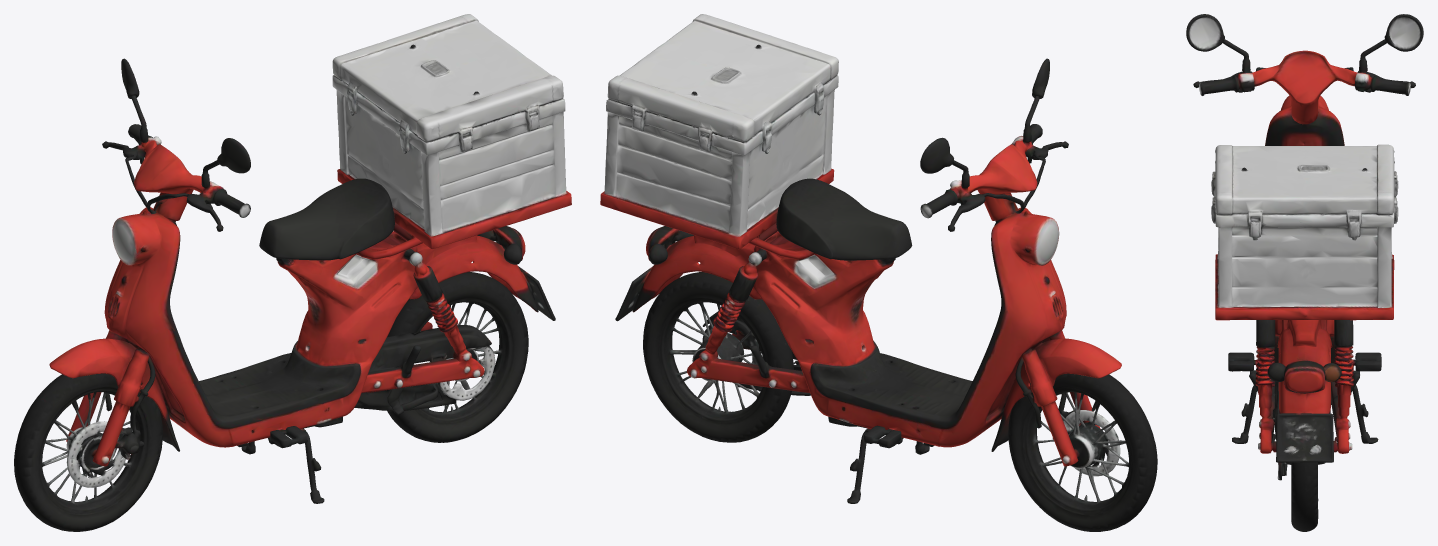
The model's file is 050_pizza_moped.glb.
The picture shows the model from 3 angles, left to right: view 1: azimuth 30°, elevation 25°; view 2: azimuth 150°, elevation 25°; view 3: azimuth 270°, elevation 25°; orthographic projection. The views are drawn at different scales.
Visible parts, largest first — view 1: geometry_0; view 2: geometry_0; view 3: geometry_0.
Boxes of the visible parts, bbox=[...] form: geometry_0: bbox=[14, 14, 571, 531]; geometry_0: bbox=[600, 14, 1157, 531]; geometry_0: bbox=[1186, 14, 1423, 531].
Size of the model in its own units: 1.8 by 1.33 by 0.7456.
1 material, 1 textured.
